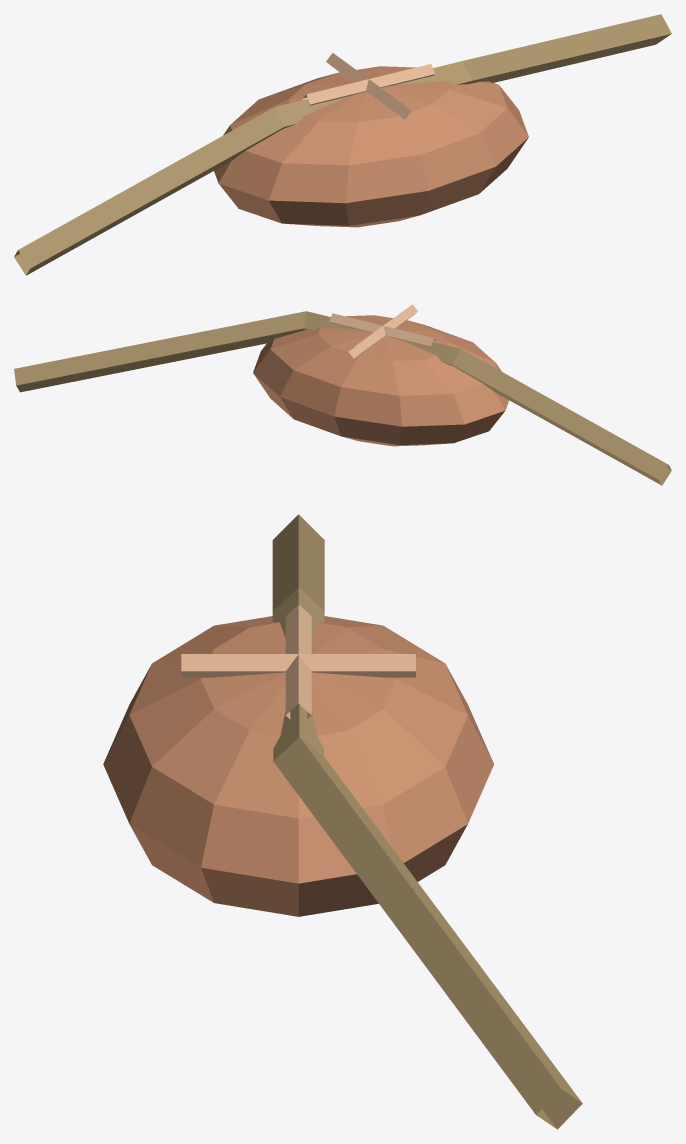
The picture shows the model from 3 angles, top to bottom: view 1: azimuth 30°, elevation 25°; view 2: azimuth 150°, elevation 25°; view 3: azimuth 270°, elevation 25°; orthographic projection. The views are drawn at different scales.
Parts seen in each view (by area): view 1: BA-0040 batched; view 2: BA-0040 batched; view 3: BA-0040 batched.
Boxes of the visible parts, left/top/right/bottom form: BA-0040 batched: left=14, top=14, right=671, bottom=275; BA-0040 batched: left=14, top=304, right=671, bottom=485; BA-0040 batched: left=103, top=514, right=582, bottom=1129.
Bounding box in the file's own units: 0.3144 × 0.053 × 0.1104.
